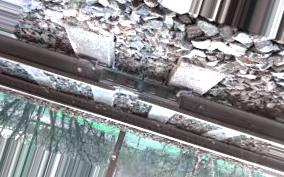tracks_fault: (81, 41, 206, 136)
